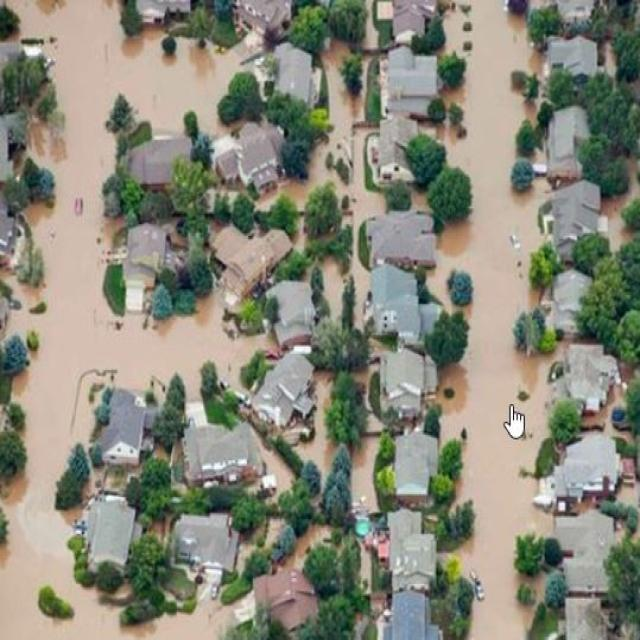flooded_areas: (84, 3, 493, 638), (516, 1, 639, 638), (0, 1, 53, 638)
